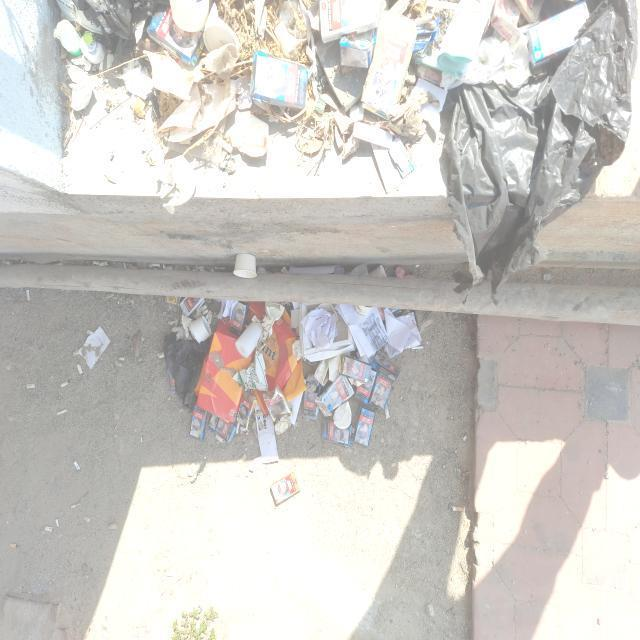Cig_pack: (361, 12, 416, 120), (526, 2, 589, 67), (250, 52, 309, 110), (148, 10, 204, 67), (320, 0, 381, 43), (315, 375, 354, 417), (490, 0, 521, 45), (270, 472, 300, 505), (262, 388, 291, 422), (370, 353, 401, 382), (322, 418, 352, 447), (236, 392, 256, 433), (354, 408, 375, 447), (370, 373, 391, 410), (208, 415, 236, 442), (342, 357, 371, 383), (355, 370, 376, 403), (515, 0, 544, 23), (190, 407, 208, 440), (230, 302, 246, 335), (418, 63, 442, 85), (180, 297, 205, 317), (304, 392, 319, 420)
Garbage: (55, 0, 638, 298), (162, 293, 434, 470), (234, 253, 262, 278), (190, 412, 208, 438)
Plastic: (80, 32, 105, 65)
Plastic_Bag: (446, 0, 638, 295), (74, 0, 169, 52), (164, 333, 212, 408), (186, 118, 226, 163), (166, 130, 209, 153), (248, 342, 249, 343)
Tetrapack: (340, 30, 376, 68), (414, 17, 440, 53)
Thermocol: (235, 322, 261, 358)
